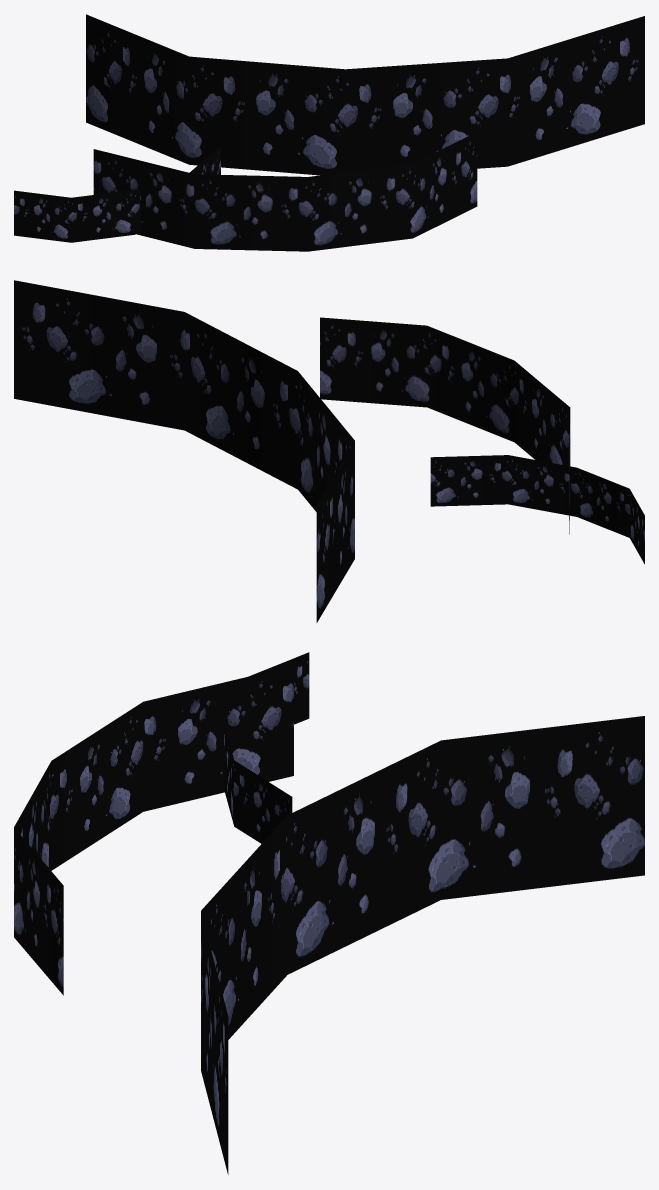
Rendered from rc_02_grd_ys.FBX.
3 views of the same model, one above another, from view 1: azimuth 30°, elevation 25°; view 2: azimuth 150°, elevation 25°; view 3: azimuth 270°, elevation 25° (orthographic). The views are drawn at different scales.
Parts seen in each view (by area): view 1: Plane007, Plane005, Plane006; view 2: Plane007, Plane005, Plane006; view 3: Plane007, Plane005, Plane006.
Boxes of the visible parts, x1,y1,x2,y2 form: Plane007: (86, 14, 644, 175); Plane005: (93, 132, 477, 251); Plane006: (14, 146, 220, 242); Plane007: (14, 280, 354, 622); Plane005: (320, 317, 570, 534); Plane006: (430, 455, 644, 564); Plane007: (201, 716, 644, 1174); Plane005: (14, 666, 293, 995); Plane006: (224, 652, 309, 843).
Bounding box in the file's own units: 72230 × 44373 × 12382.
